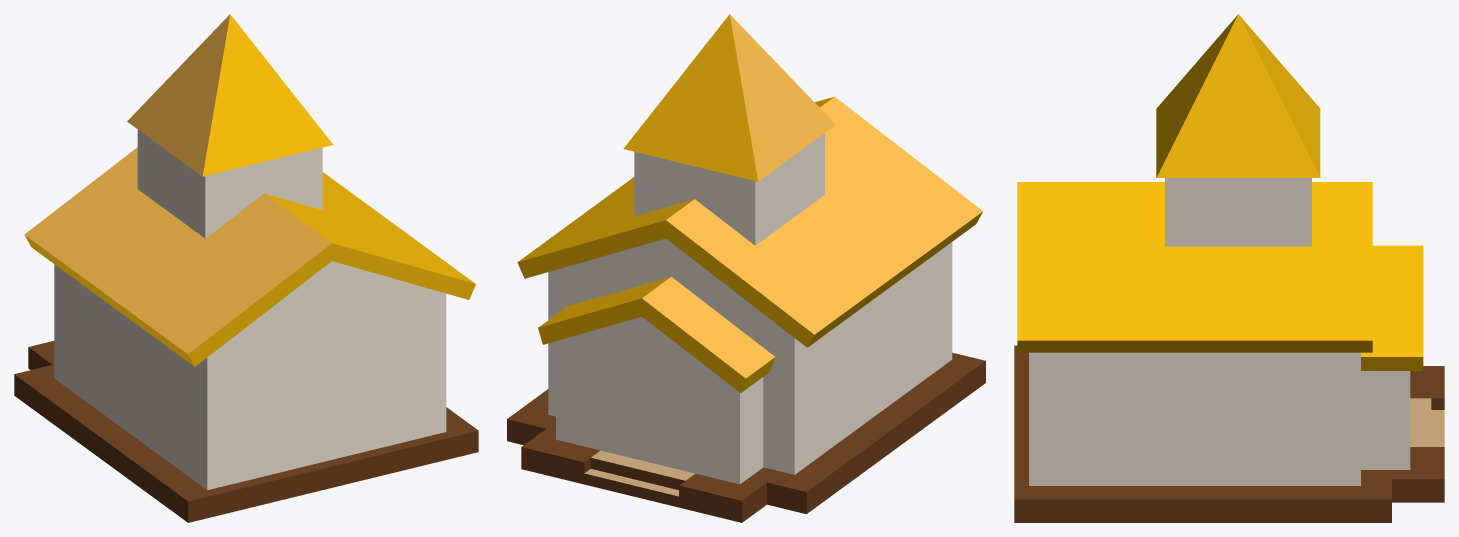
File: Map-Church-Y.fbx
The picture shows the model from 3 angles, left to right: view 1: azimuth 30°, elevation 25°; view 2: azimuth 150°, elevation 25°; view 3: azimuth 270°, elevation 25°; orthographic projection. The views are drawn at different scales.
Parts seen in each view (by area): view 1: Map-Church-Y; view 2: Map-Church-Y; view 3: Map-Church-Y.
Boxes of the visible parts, x1=… form: Map-Church-Y: x1=14, y1=14, x2=478, y2=522; Map-Church-Y: x1=507, y1=14, x2=985, y2=522; Map-Church-Y: x1=1014, y1=14, x2=1444, y2=522.
Size of the model in its own units: 1.48 by 1.94 by 1.75.
